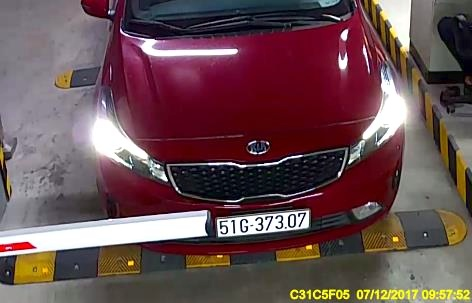plate: (215, 207, 312, 240)
